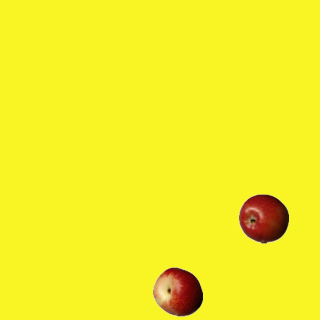Apple Braeburn: (238, 193, 288, 243)
Nectarine: (152, 266, 202, 316)
